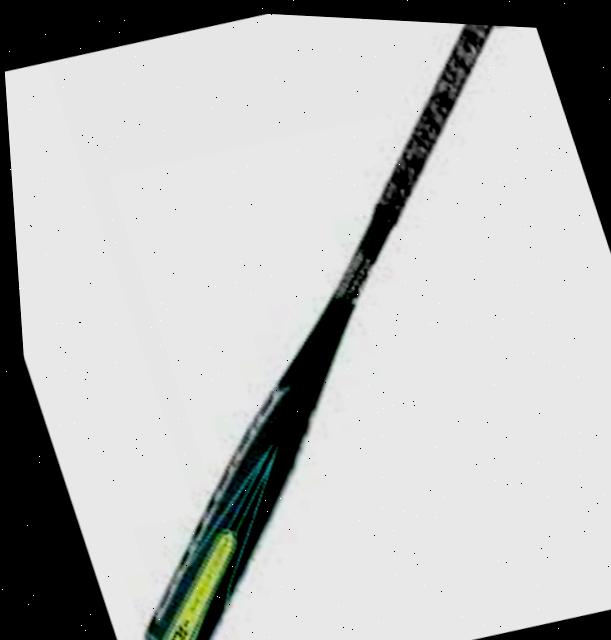baseball bat: (132, 18, 510, 640)
